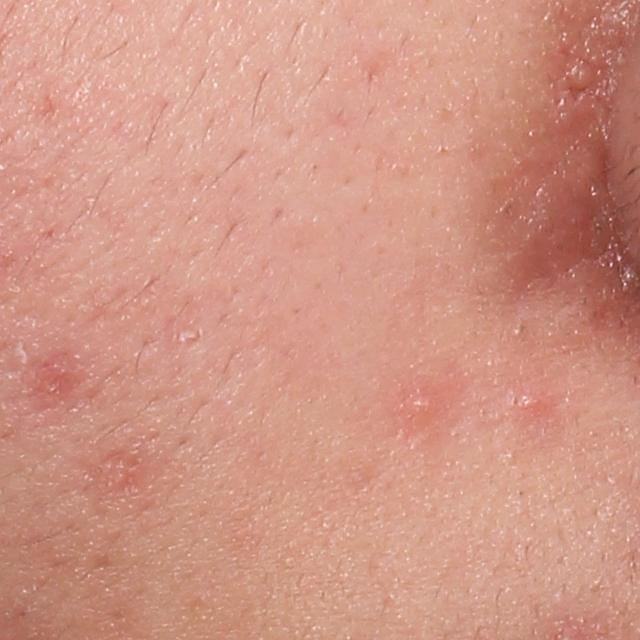papule: (402, 386, 441, 420), (505, 386, 546, 416)
